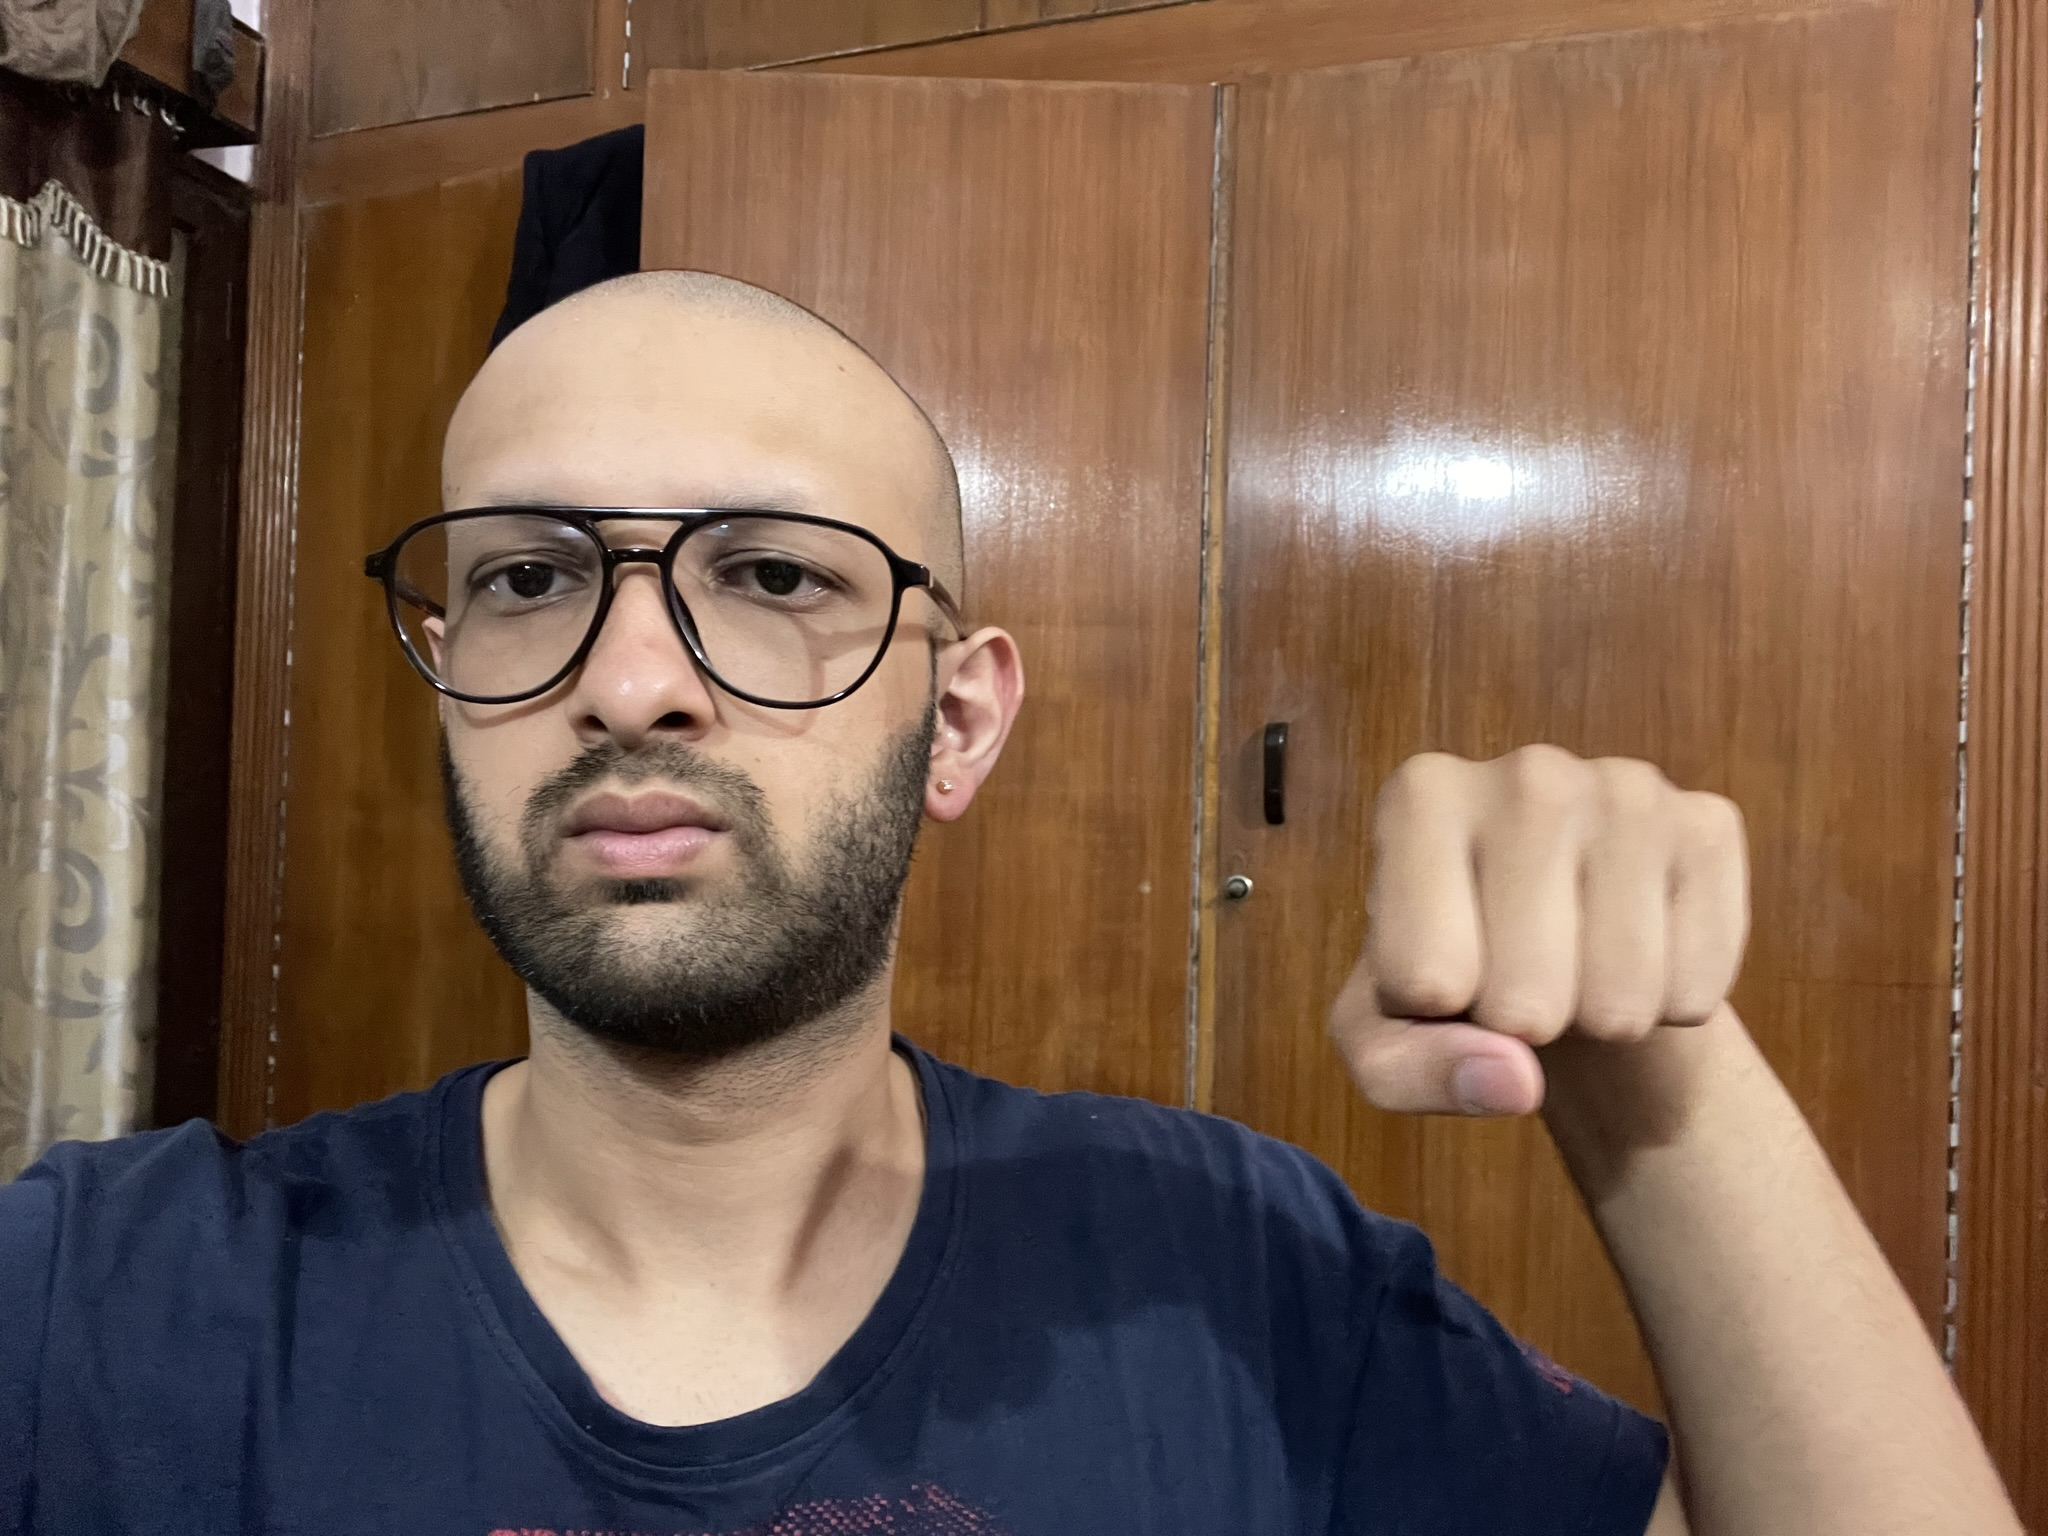Yes: (1317, 729, 1764, 1144)
